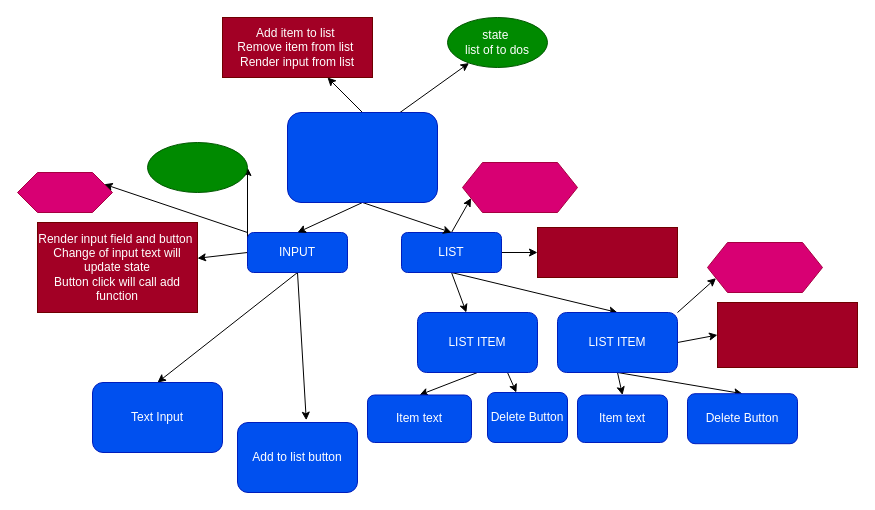
Some shapes in this 875 by 510 pixel diagram are drawn without their labels. The shapes that lost their labels are listed below. From the top down, each one's centre as x and y in pixels, then its label:
the point at 197,167: state text
the point at 362,157: APP
the point at 64,192: props add function
the point at 520,187: props array of todos delete function
the point at 607,252: Render an array of li items in ul
the point at 764,267: props text delete function
the point at 787,335: Render text and button onclick call delete function (delete item at index)
